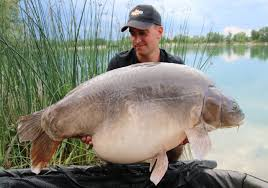carp: (16, 60, 247, 186)
